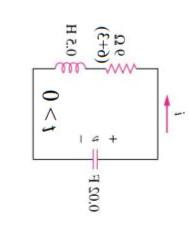inductor: (45, 60, 92, 76)
